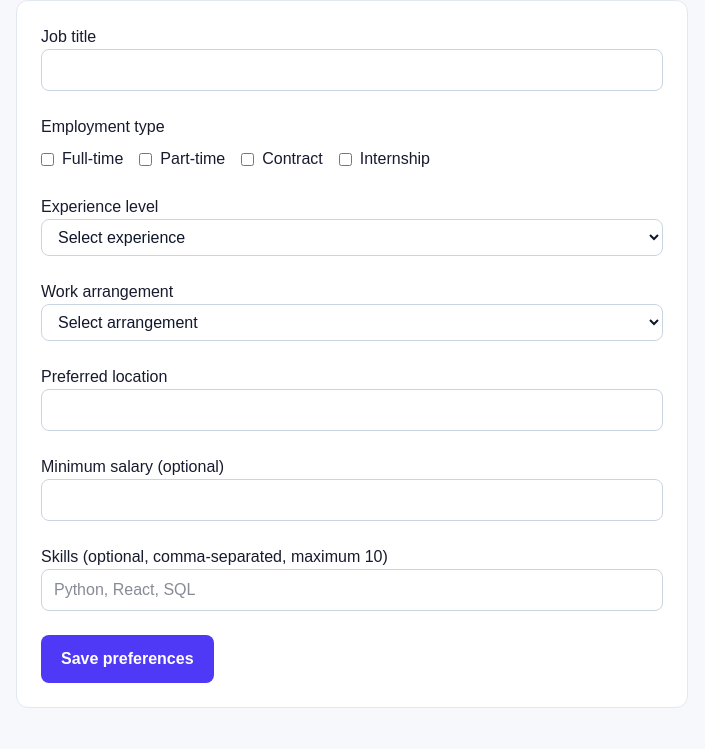
JobPreferencesForm › rejects a minimum salary of zero
In the field labelled "Job title": point(352, 70) [41,49,663,91], type "Frontend Developer"
In the field labelled "Preferred location": point(352, 410) [41,389,663,431], type "Toronto"
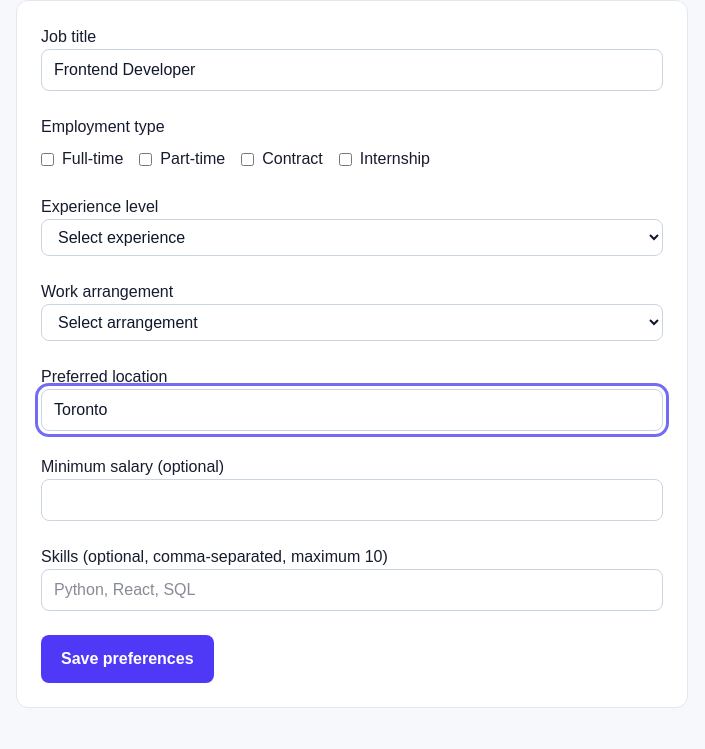
Click the checkbox labelled "Full-time": point(48, 159) [41,152,54,166]
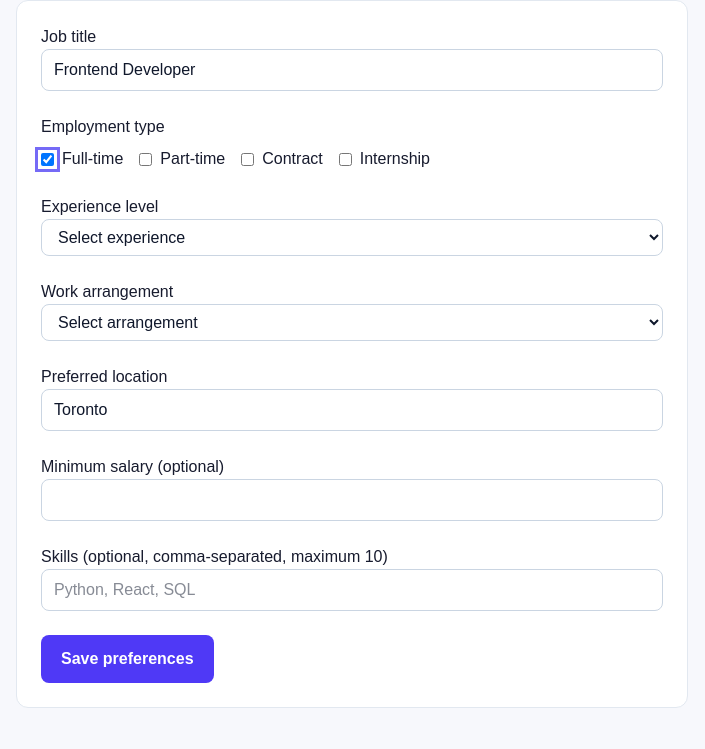
Select "Entry level" in the dropdown labelled "Experience level": point(352, 238) [41,219,663,256]
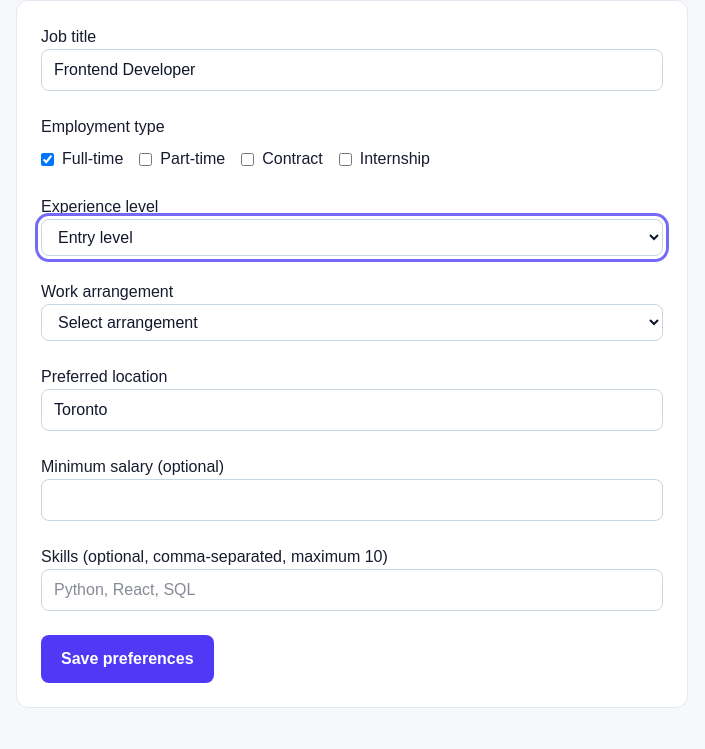
Select "Remote" in the dropdown labelled "Work arrangement": point(352, 322) [41,304,663,341]
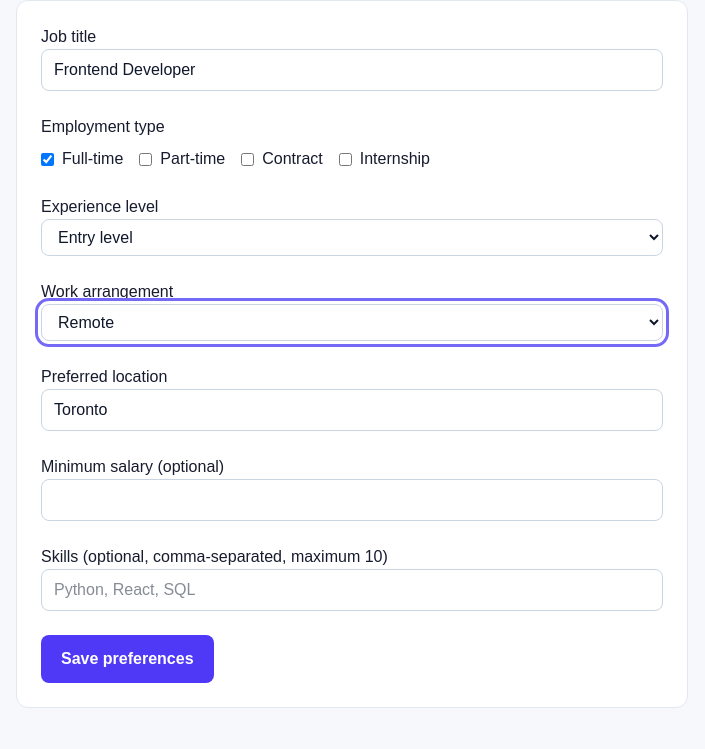
In the number field labelled "Minimum salary (optional)": point(352, 500) [41,479,663,521], type "0"
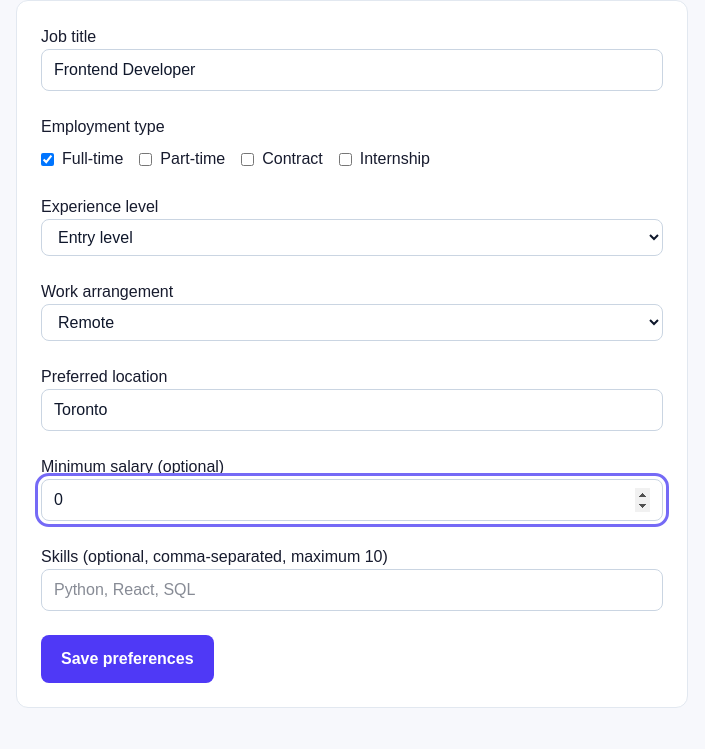
Click the button "Save preferences": point(127, 659) [41,635,214,683]
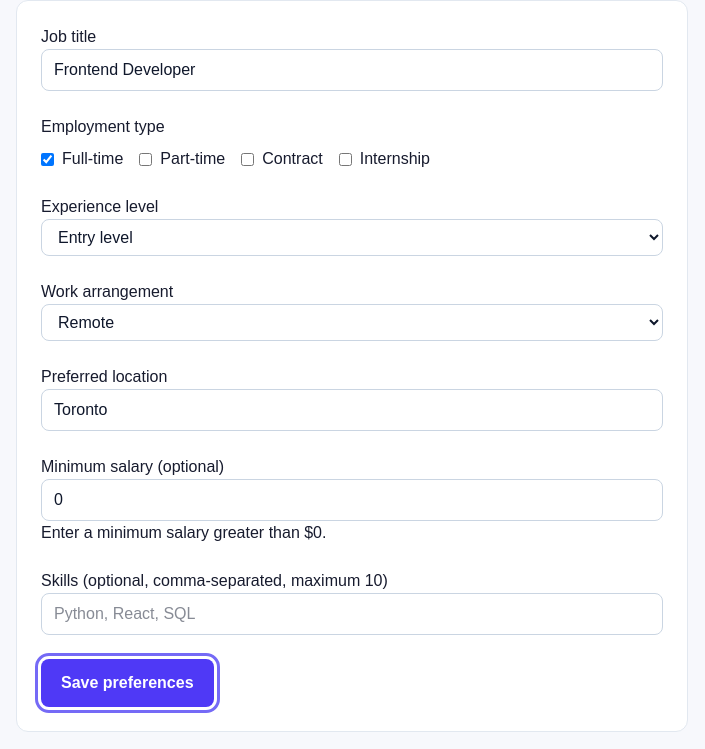
Expected: the text "Enter a minimum salary greater than $0." is shown, [41,524,326,541]
